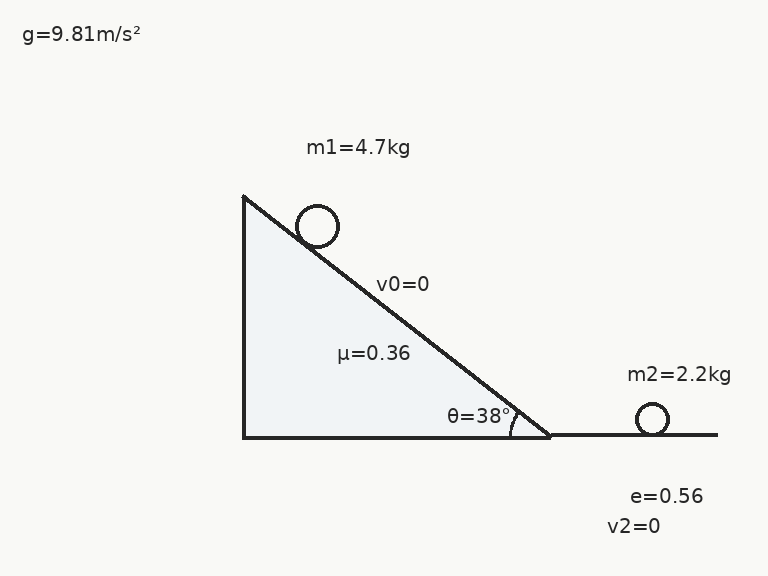ball: (293, 202, 341, 250), (633, 400, 671, 438)
ramp: (241, 194, 552, 438)
